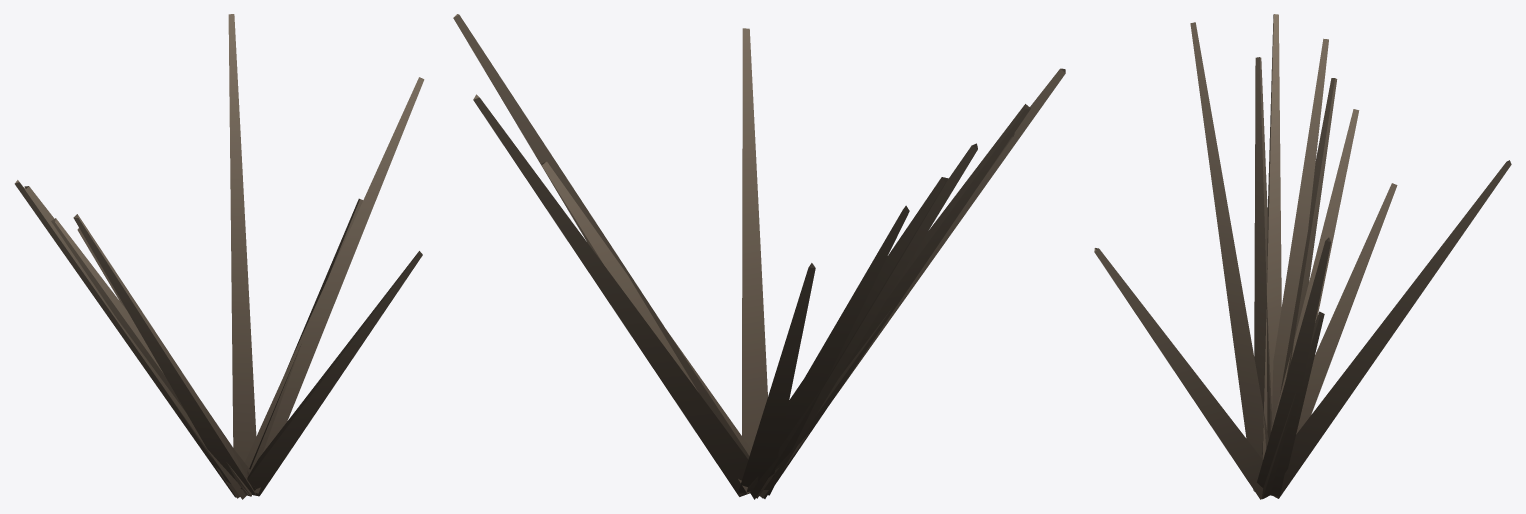
The model's file is DeadShrub.fbx.
3 renders of one model, left to right at view 1: azimuth 30°, elevation 25°; view 2: azimuth 150°, elevation 25°; view 3: azimuth 270°, elevation 25°, orthographic. The views are drawn at different scales.
Visible parts, largest first — view 1: DeadShrub_LOD0; view 2: DeadShrub_LOD0; view 3: DeadShrub_LOD0.
Part boxes in pixels (bbox=[...]): DeadShrub_LOD0: bbox=[14, 14, 424, 499]; DeadShrub_LOD0: bbox=[453, 14, 1065, 499]; DeadShrub_LOD0: bbox=[1094, 14, 1511, 499].
Size of what is drawn, in the model's own units: 1.88 by 1.58 by 1.55.
1 material, 1 textured.
